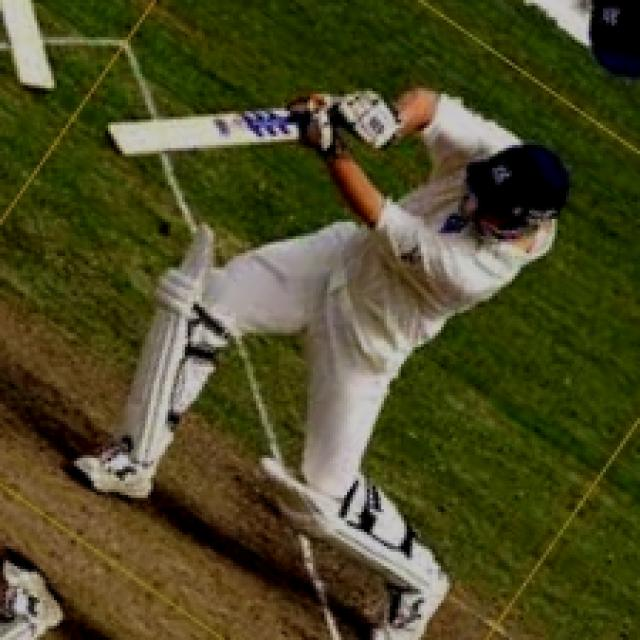toe: (98, 114, 172, 161)
